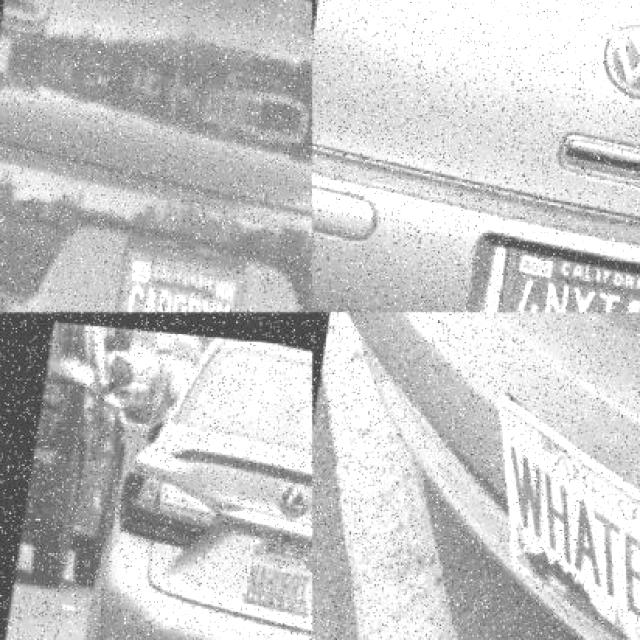licenseplate: (497, 389, 640, 640), (498, 230, 640, 311), (115, 238, 250, 313), (245, 522, 313, 604)
